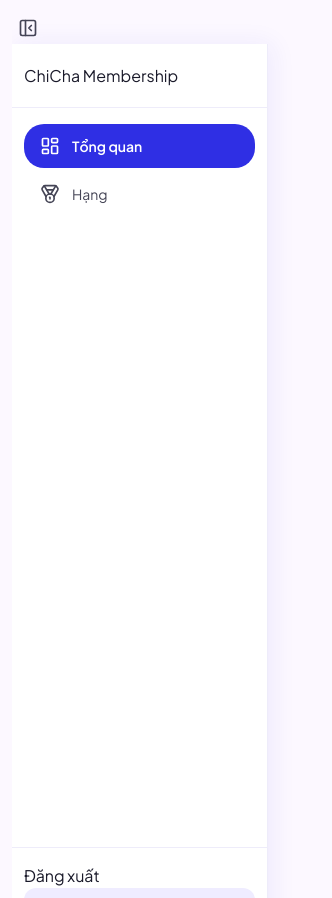
Test case: PortalSidebar › collapses on click and renames the toggle
Click the button named "Thu gọn thanh bên".
click(28, 28)  # box [12,12,44,44]
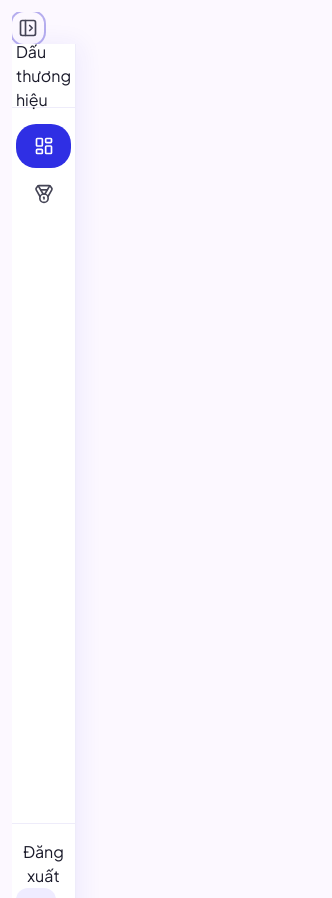
Now the button named "Mở rộng thanh bên" is shown, box [12,12,44,44]
